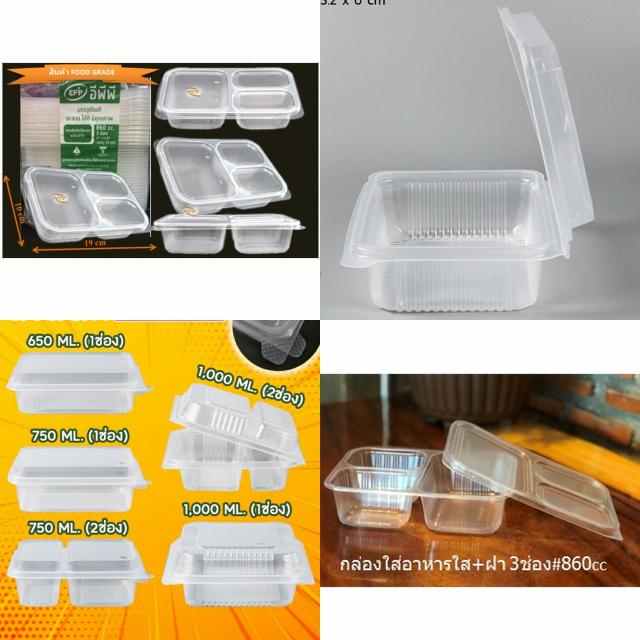Single-Use-Plastic: (341, 9, 594, 311), (442, 420, 622, 539), (324, 446, 506, 534), (162, 384, 305, 491), (162, 522, 314, 606), (154, 138, 290, 214), (22, 166, 149, 242), (8, 539, 151, 606), (8, 446, 149, 512), (155, 68, 304, 129), (8, 352, 150, 413), (152, 214, 304, 254)
